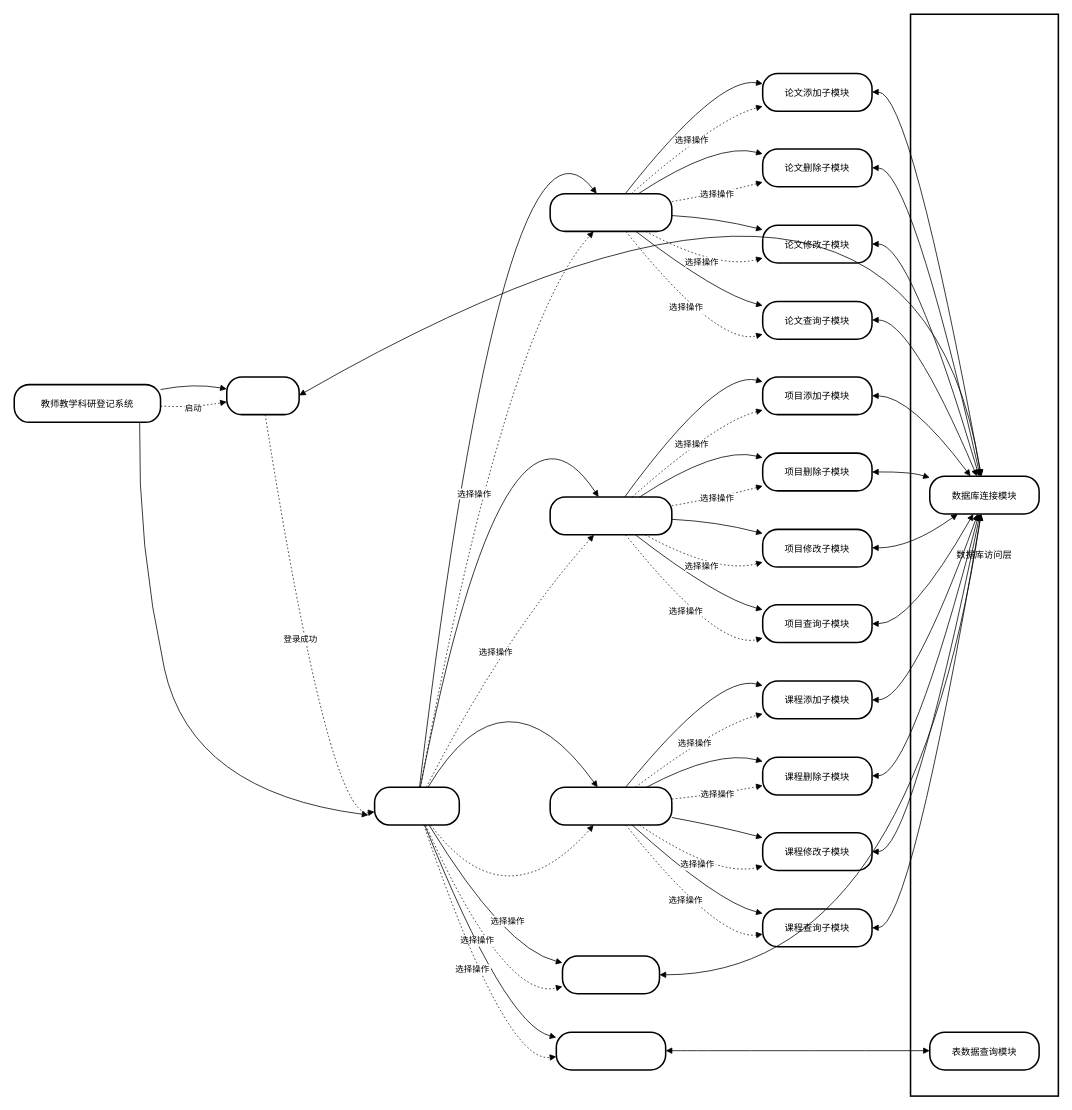
Image size: 1072x1110. Some labels were removed from this diagram. The centre of each missing label's shape, as x and y in pixels:
"主讲课程情况模块" goes at (x=610, y=805).
"主页面模块" goes at (x=416, y=805).
"发表论文情况模块" goes at (x=610, y=212).
"承担项目情况模块" goes at (x=610, y=515).
"查看数据表模块" goes at (x=610, y=1050).
"查询统计模块" goes at (x=610, y=974).
"登录模块" goes at (x=263, y=395).
